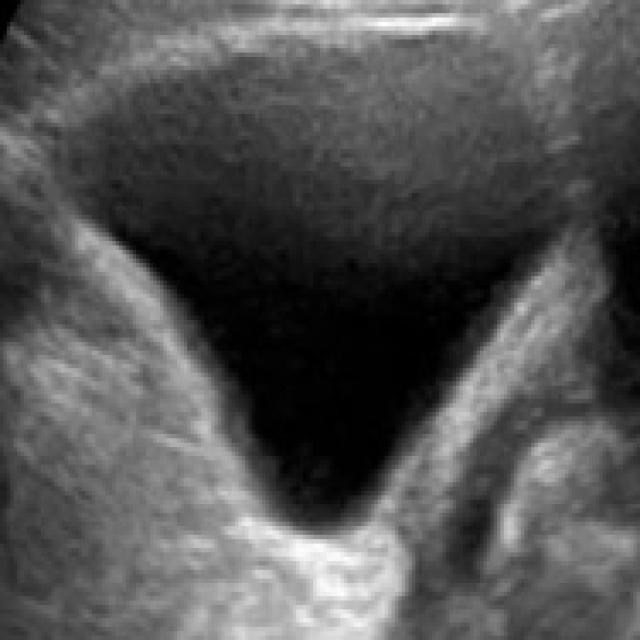bladder: (24, 9, 592, 602)
